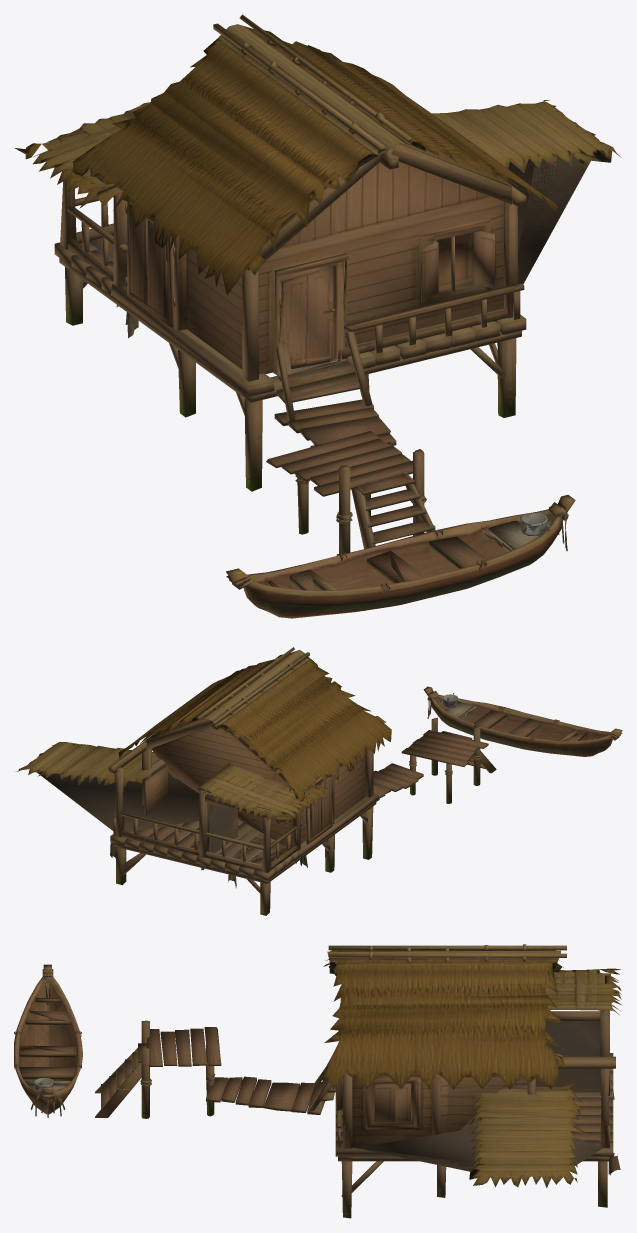
Rendered from selected.glb.
The picture shows the model from 3 angles, top to bottom: view 1: azimuth 30°, elevation 25°; view 2: azimuth 150°, elevation 25°; view 3: azimuth 270°, elevation 25°; orthographic projection. The views are drawn at different scales.
Visible parts, largest first — view 1: tripo_node_3aa6a5cd-12d2-48dd-8526-43866d903373; view 2: tripo_node_3aa6a5cd-12d2-48dd-8526-43866d903373; view 3: tripo_node_3aa6a5cd-12d2-48dd-8526-43866d903373.
Part boxes in pixels (bbox=[...]): tripo_node_3aa6a5cd-12d2-48dd-8526-43866d903373: bbox=[15, 14, 620, 618]; tripo_node_3aa6a5cd-12d2-48dd-8526-43866d903373: bbox=[16, 647, 622, 915]; tripo_node_3aa6a5cd-12d2-48dd-8526-43866d903373: bbox=[14, 944, 622, 1218].
Bounding box in the file's own units: 0.9355 × 0.4238 × 0.998.
Materials: 1 (1 with a texture image).
